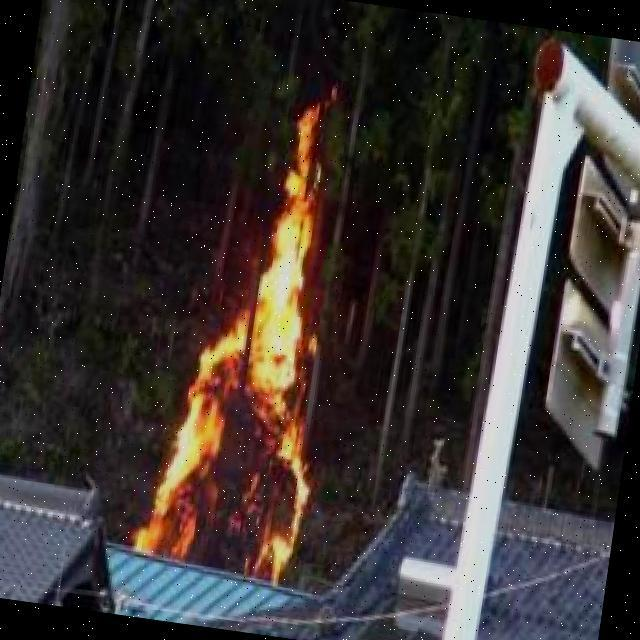Fire: (140, 104, 364, 591)
